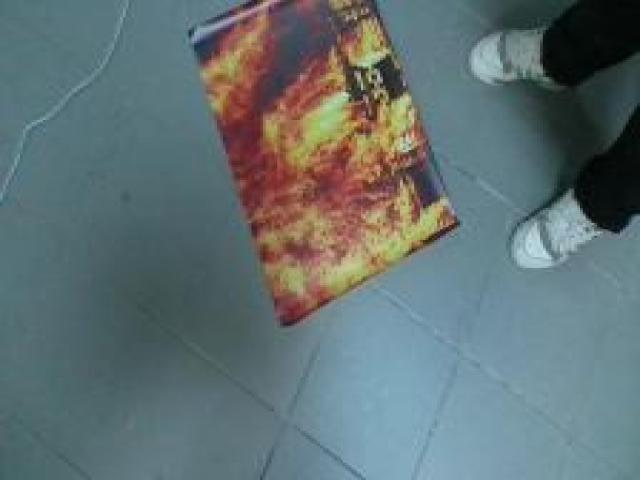fire-poster: (183, 0, 466, 330)
